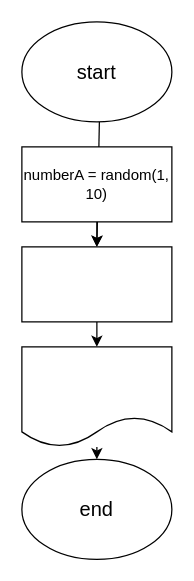
Some shapes in this 194 by 581 pixel diagram are drawn without their labels. The shapes that lost their labels are listed below. From the top down, each one's centre as x and y in pixels, then its label:
At point 96,284: "numberB = random(1,10)".
At point 96,396: "result = numberA+numberB".
